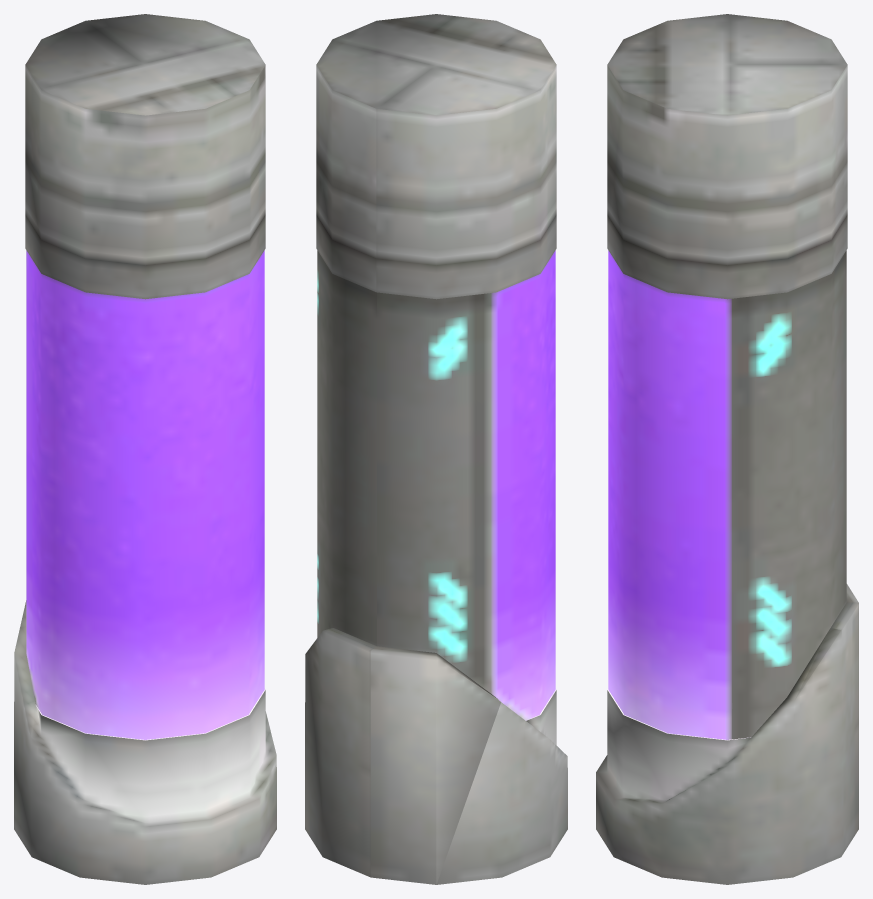
Rendered from Bottle01.FBX.
The picture shows the model from 3 angles, left to right: view 1: azimuth 30°, elevation 25°; view 2: azimuth 150°, elevation 25°; view 3: azimuth 270°, elevation 25°; orthographic projection.
Parts seen in each view (by area): view 1: Bottle01; view 2: Bottle01; view 3: Bottle01.
Boxes of the visible parts, box(x1,y1,x2,y2) form: Bottle01: box(14, 14, 276, 884); Bottle01: box(305, 14, 567, 884); Bottle01: box(596, 14, 858, 884).
Size of the model in its own units: 0.0854 by 0.2742 by 0.0854.
